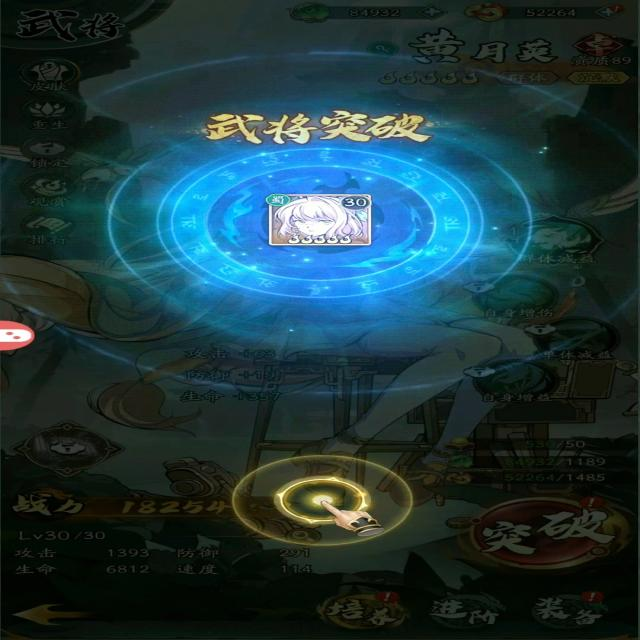hint-guide: (217, 452, 425, 540)
